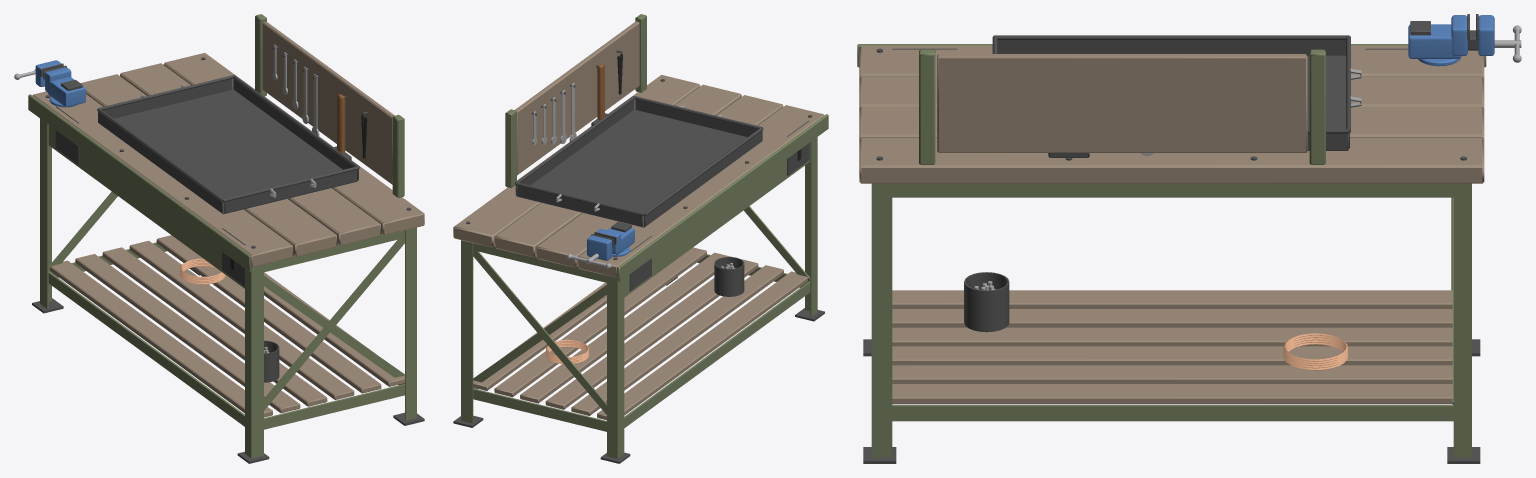
File: bench.glb
3 views of the same model, side by side, from view 1: azimuth 30°, elevation 25°; view 2: azimuth 150°, elevation 25°; view 3: azimuth 270°, elevation 25° (orthographic). The views are drawn at different scales.
Parts seen in each view (by area): view 1: bench; view 2: bench; view 3: bench.
Boxes of the visible parts, x1,y1,x2,y2 form: bench: [14, 14, 424, 463]; bench: [453, 14, 828, 463]; bench: [857, 14, 1521, 463].
Size of the model in its own units: 0.718 by 1.1 by 1.62.
